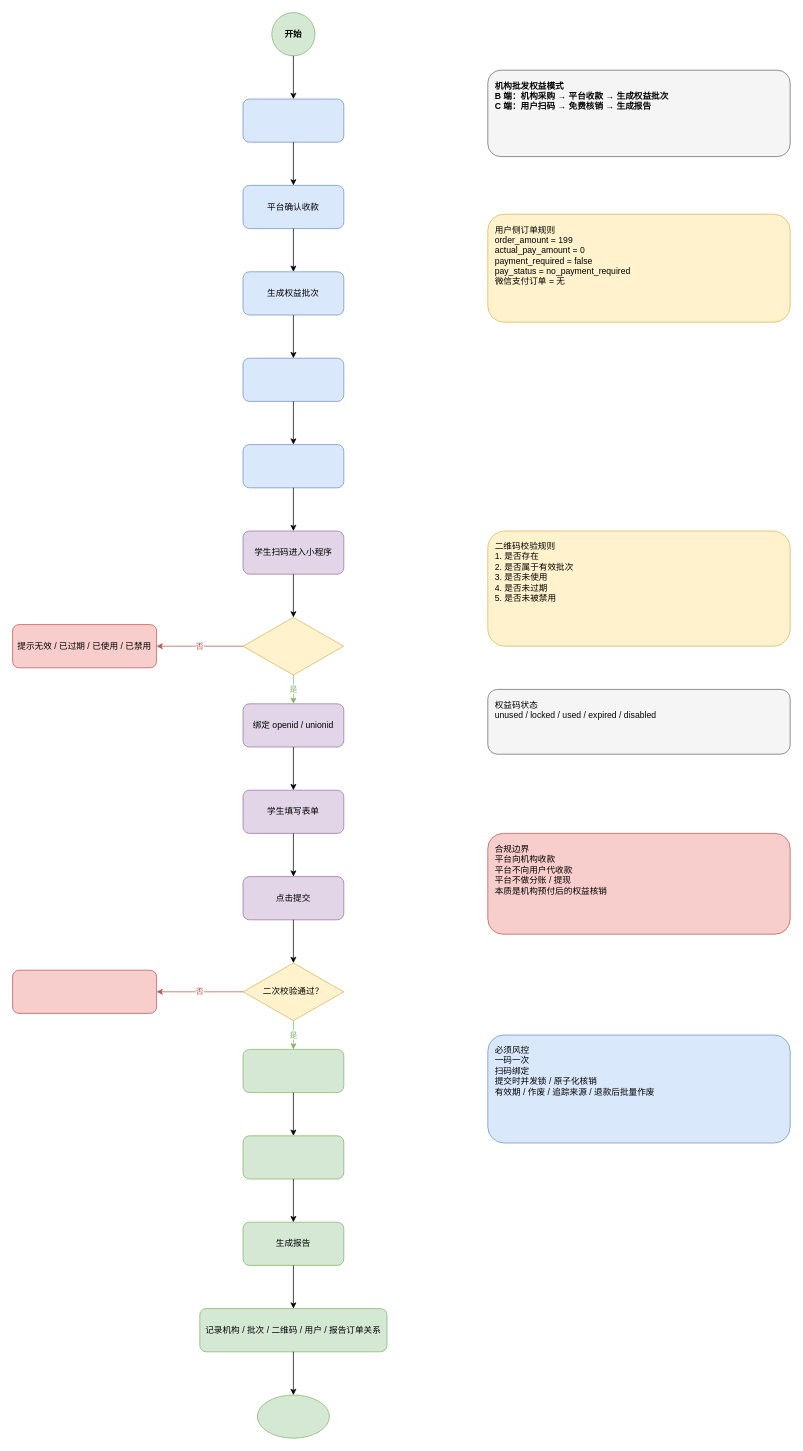
Image size: 803x1451. Some labels were removed from this diagram. Each missing label, with the centre of its shape:
"二维码有效？" belongs at point 293,646.
"交付报告" belongs at point 293,1416.
"创建 0 元报告订单" belongs at point 293,1157.
"原子化核销权益" belongs at point 293,1071.
"提示权益状态变化 终止生成" belongs at point 84,991.
"机构分发给学生" belongs at point 293,466.
"机构采购报告权益" belongs at point 293,120.
"生成 N 个一次性二维码" belongs at point 293,379.
